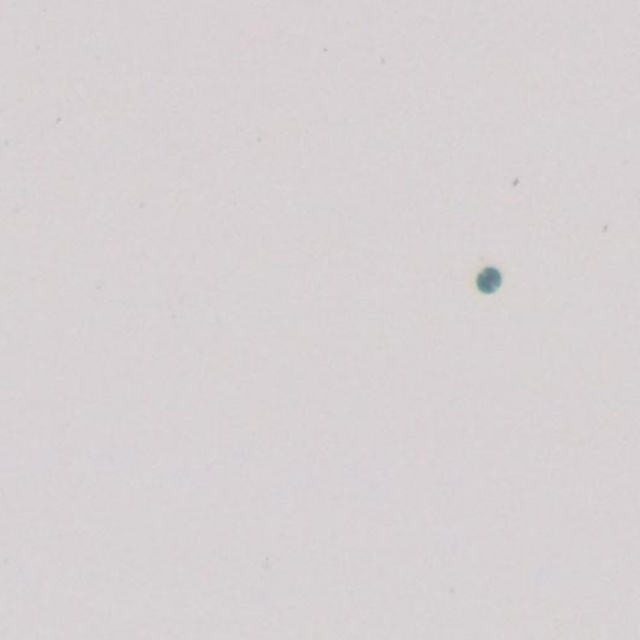non_viable: (475, 267, 501, 294)
